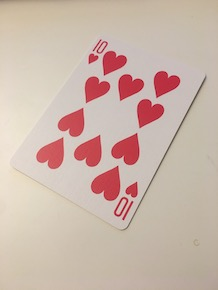TenOfHearts: (10, 27, 207, 240)
